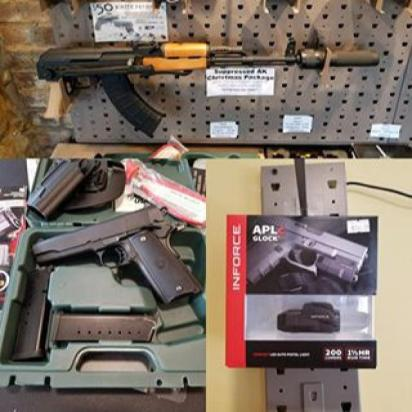Gun: (28, 33, 381, 136), (31, 210, 205, 301), (247, 213, 371, 294)
